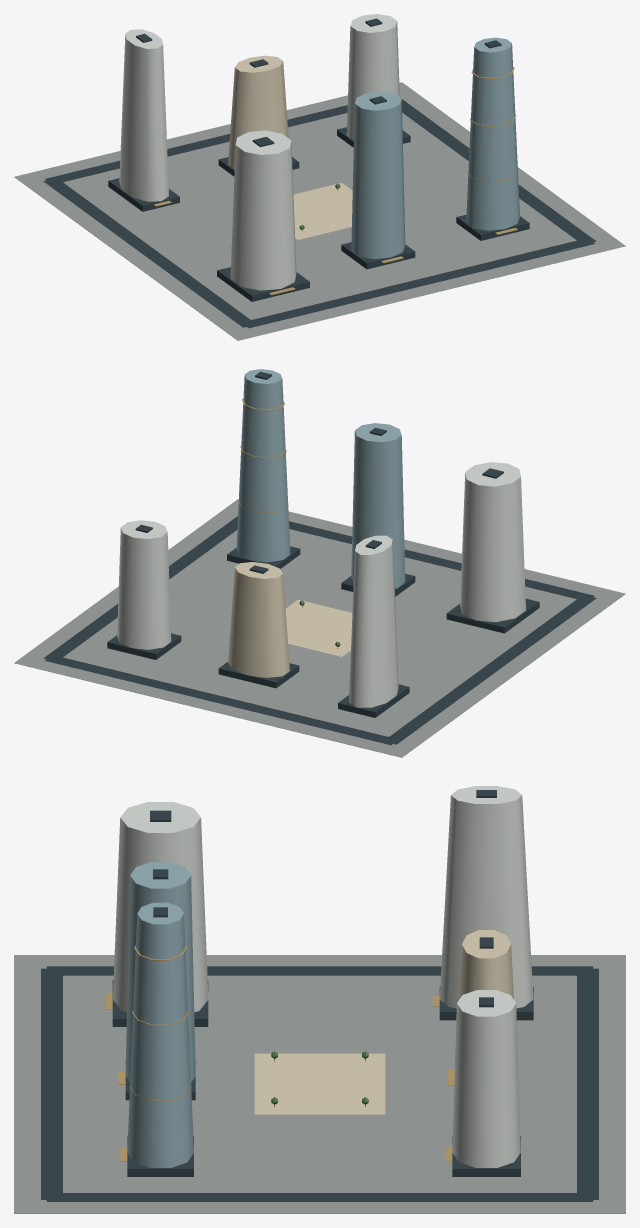
The model's file is GC-TILE-06-18.glb.
3 views of the same model, one above another, from view 1: azimuth 30°, elevation 25°; view 2: azimuth 150°, elevation 25°; view 3: azimuth 270°, elevation 25° (orthographic). The views are drawn at different scales.
Parts seen in each view (by area): view 1: GC-TILE-06-18-paving, GC-TILE-06-18-white, GC-TILE-06-18-glass, GC-TILE-06-18-dark, GC-TILE-06-18-ivory, GC-TILE-06-18-gold; view 2: GC-TILE-06-18-paving, GC-TILE-06-18-white, GC-TILE-06-18-glass, GC-TILE-06-18-dark, GC-TILE-06-18-ivory; view 3: GC-TILE-06-18-paving, GC-TILE-06-18-white, GC-TILE-06-18-dark, GC-TILE-06-18-glass, GC-TILE-06-18-ivory, GC-TILE-06-18-gold.
Boxes of the visible parts, x1,y1,x2,y2 form: GC-TILE-06-18-paving: [14, 82, 625, 340]; GC-TILE-06-18-white: [119, 14, 399, 290]; GC-TILE-06-18-glass: [351, 37, 519, 259]; GC-TILE-06-18-dark: [43, 18, 596, 328]; GC-TILE-06-18-ivory: [228, 55, 352, 239]; GC-TILE-06-18-gold: [153, 67, 517, 295]; GC-TILE-06-18-paving: [14, 499, 625, 757]; GC-TILE-06-18-white: [117, 462, 525, 707]; GC-TILE-06-18-glass: [236, 369, 405, 588]; GC-TILE-06-18-dark: [43, 371, 596, 745]; GC-TILE-06-18-ivory: [228, 562, 352, 677]; GC-TILE-06-18-paving: [14, 955, 625, 1213]; GC-TILE-06-18-white: [113, 786, 533, 1167]; GC-TILE-06-18-dark: [41, 790, 598, 1201]; GC-TILE-06-18-glass: [125, 862, 195, 1167]; GC-TILE-06-18-ivory: [254, 930, 513, 1114]; GC-TILE-06-18-gold: [105, 945, 454, 1161].
Size of the model in its own units: 338 by 152 by 338.
